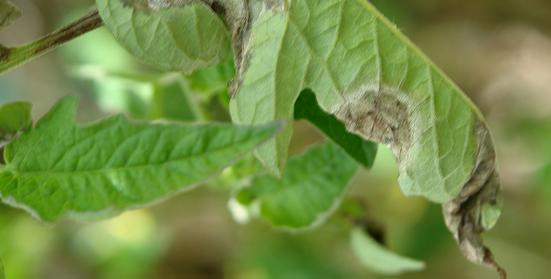Tomato leaf late blight: (92, 0, 533, 279), (11, 54, 326, 267)
